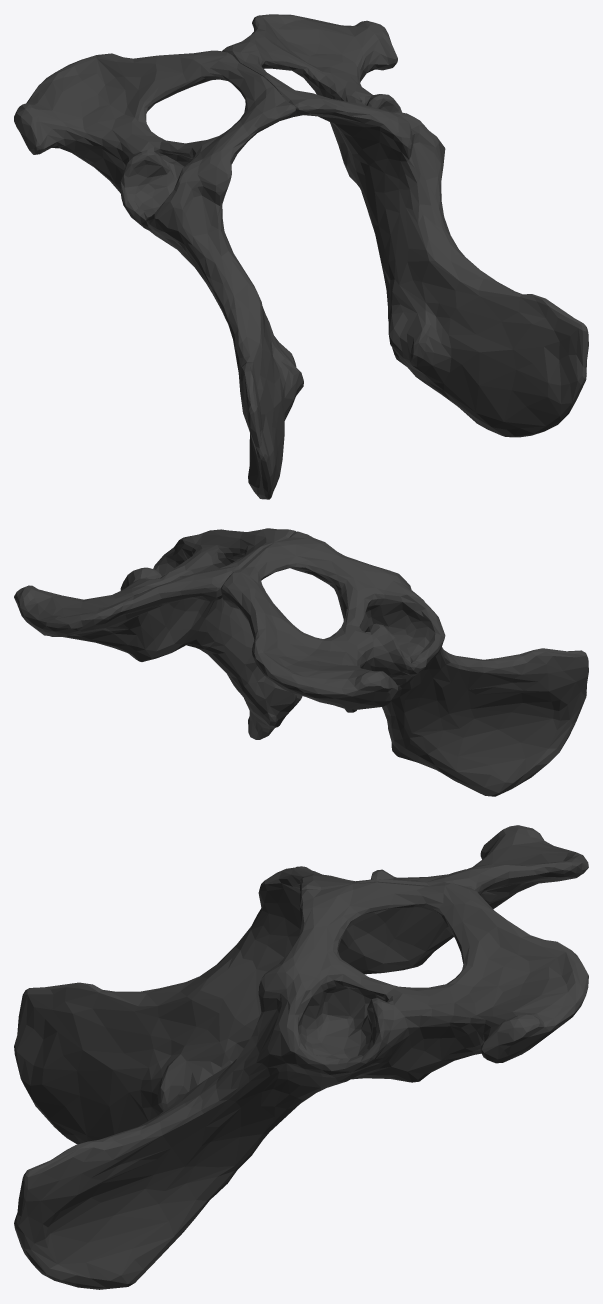
Rendered from b_pelvis.glb.
3 views of the same model, one above another, from view 1: azimuth 30°, elevation 25°; view 2: azimuth 150°, elevation 25°; view 3: azimuth 270°, elevation 25° (orthographic). The views are drawn at different scales.
Parts seen in each view (by area): view 1: b_pelvis; view 2: b_pelvis; view 3: b_pelvis.
Part boxes in pixels (<box>): b_pelvis: <box>14,14,588,499</box>; b_pelvis: <box>14,528,588,796</box>; b_pelvis: <box>14,825,588,1289</box>.
Size of the model in its own units: 0.0412 by 0.0319 by 0.0488.
Materials: 1 (1 with a texture image).
